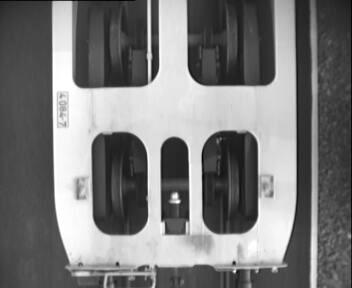twist_lock_2: (82, 125, 271, 243)
